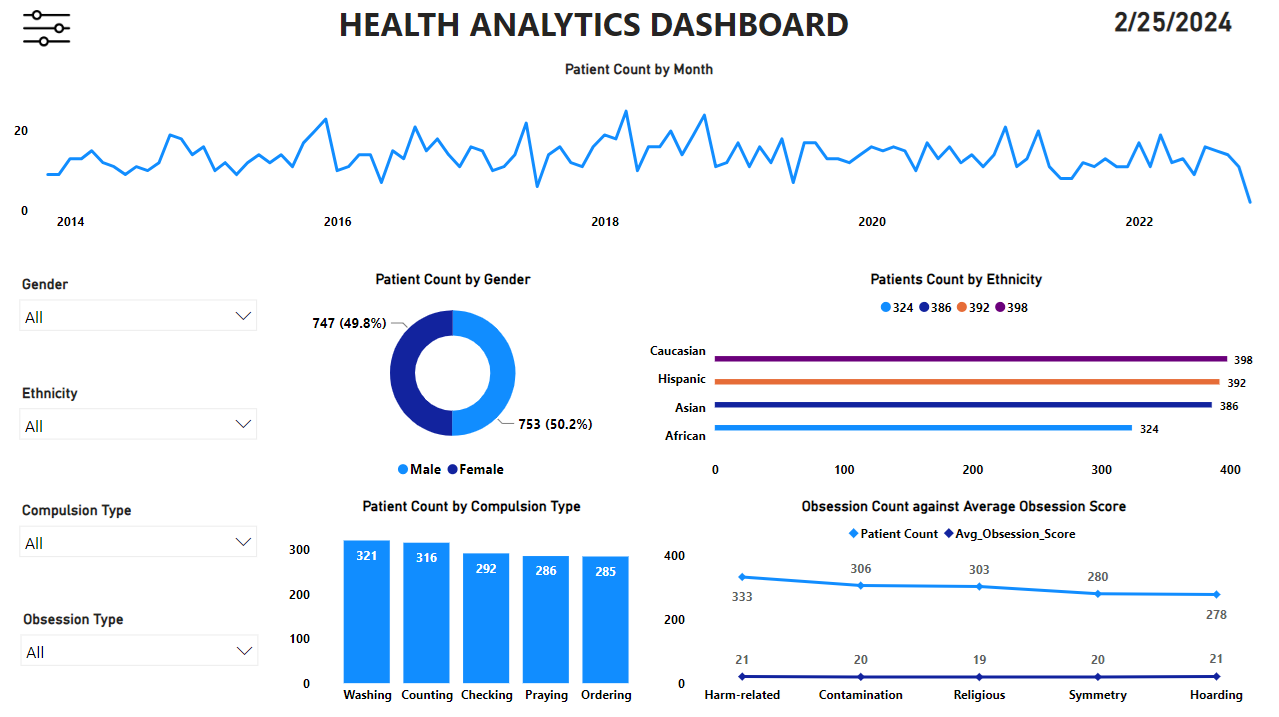

Layout of this report page (visuals, bound fields, positions):
{"tool":"powerbi","page":{"name":"Health Analytics Dashboard","canvas":[1280,720],"ordinal":0},"visuals":[{"type":"textbox","box":[140.6,0,909.5,59.9],"z":0},{"type":"lineChart","title":"Patient Count by Month","fields":{"Y":["Sum(diagnosis_mom.patient_count)"],"Category":["diagnosis_mom.month.Variation.Date Hierarchy.Year","diagnosis_mom.month.Variation.Date Hierarchy.Quarter","diagnosis_mom.month.Variation.Date Hierarchy.Month","diagnosis_mom.month.Variation.Date Hierarchy.Day"]},"box":[9.8,63.6,1260.3,179.7],"z":1000},{"type":"donutChart","title":"Patient Count by Gender","fields":{"Category":["gender.Gender"],"Y":["Sum(gender.patient_count)"]},"box":[267.7,273.8,372.8,217.6],"z":2000},{"type":"clusteredBarChart","title":"Patients Count by Ethnicity","fields":{"Category":["ethnicity.Ethnicity"],"Y":["Sum(ethnicity.patients_count)"],"Series":["ethnicity.patients_count"]},"box":[645.4,273.8,624.7,217.6],"z":3000},{"type":"columnChart","title":"Patient Count by Compulsion Type","fields":{"Category":["compulsion_type.Compulsion Type"],"Y":["Sum(compulsion_type.patient_count)"]},"box":[284.8,500,375.3,216.4],"z":4000},{"type":"lineChart","title":"Obsession Count against Average Obsession Score","fields":{"Category":["obsession_type.Obsession Type"],"Y":["Sum(obsession_type.patient_count)","Sum(obsession_type.avg_obsession_score)"]},"box":[660.1,500,610,216.4],"z":5000},{"type":"slicer","fields":{"Values":["gender.Gender"]},"box":[9.8,273.8,257.9,86.8],"z":6000},{"type":"slicer","fields":{"Values":["ethnicity.Ethnicity"]},"box":[9.8,382.6,257.9,86.8],"z":7000},{"type":"slicer","fields":{"Values":["compulsion_type.Compulsion Type"]},"box":[9.8,500,257.9,86.8],"z":8000},{"type":"slicer","fields":{"Values":["obsession_type.Obsession Type"]},"box":[11,608.8,257.9,86.8],"z":9000},{"type":"image","box":[11,0,73.3,59.9],"z":10000},{"type":"card","fields":{"Values":["Min(Query1.Date)"]},"box":[1076.9,0,193.1,47.7],"z":11000}]}

Visuals, with their boxes in screenshot pixels (x1, y1, x2, y2), scaled from the page's 1280x720 canvas onto the 1279x717 screenshot:
textbox: select_region(140, 0, 1049, 60)
"Patient Count by Month" lineChart: select_region(10, 63, 1269, 242)
"Patient Count by Gender" donutChart: select_region(267, 273, 640, 489)
"Patients Count by Ethnicity" clusteredBarChart: select_region(645, 273, 1269, 489)
"Patient Count by Compulsion Type" columnChart: select_region(285, 498, 660, 713)
"Obsession Count against Average Obsession Score" lineChart: select_region(660, 498, 1269, 713)
slicer - gender.Gender: select_region(10, 273, 267, 359)
slicer - ethnicity.Ethnicity: select_region(10, 381, 267, 467)
slicer - compulsion_type.Compulsion Type: select_region(10, 498, 267, 584)
slicer - obsession_type.Obsession Type: select_region(11, 606, 269, 693)
image: select_region(11, 0, 84, 60)
card - Min(Query1.Date): select_region(1076, 0, 1269, 48)
